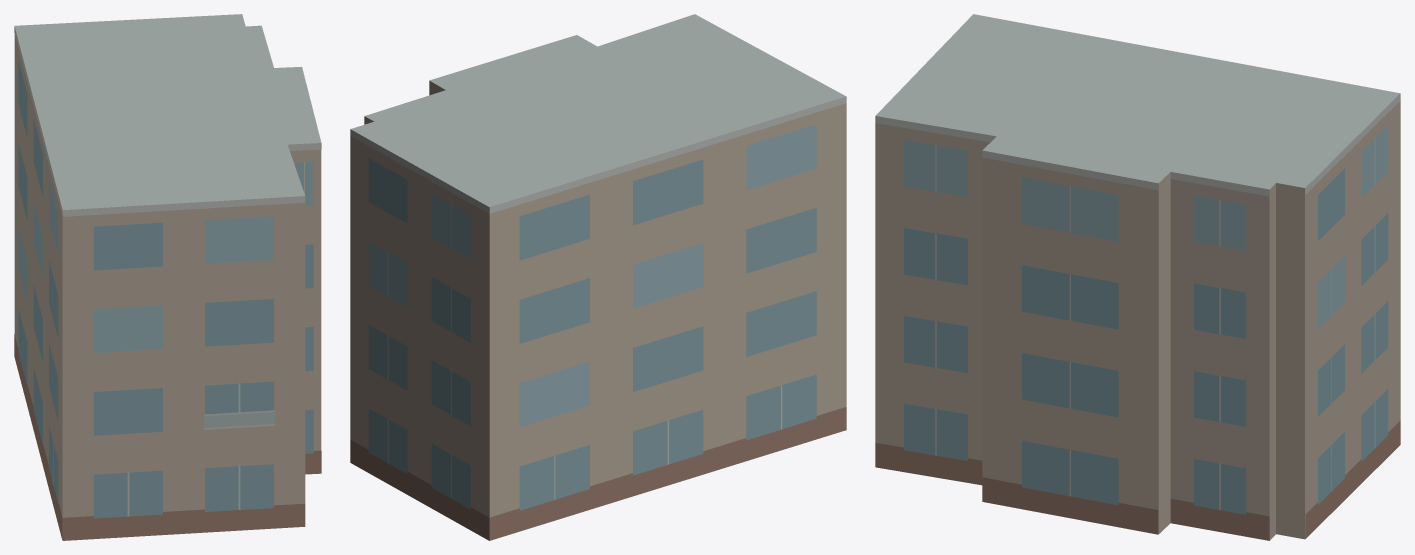
File: survey-upis-32524967.glb
3 renders of one model, left to right at view 1: azimuth 30°, elevation 25°; view 2: azimuth 150°, elevation 25°; view 3: azimuth 270°, elevation 25°, orthographic. The views are drawn at different scales.
Parts seen in each view (by area): view 1: survey-upis-32524967.tmp; view 2: survey-upis-32524967.tmp; view 3: survey-upis-32524967.tmp.
Part boxes in pixels (x1,y1,x2,y2): survey-upis-32524967.tmp: (14,14,321,540); survey-upis-32524967.tmp: (350,14,846,540); survey-upis-32524967.tmp: (875,14,1400,540).
Bounding box in the file's own units: 13.08 × 12.2 × 16.54.
